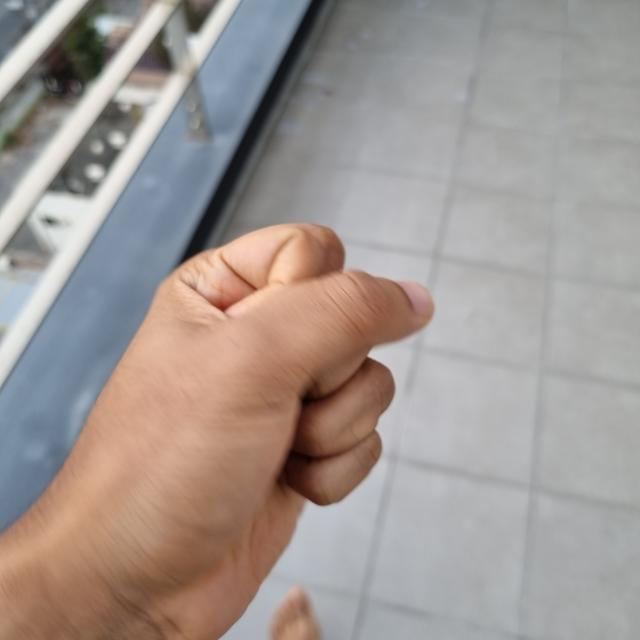Rock: (18, 222, 437, 639)
